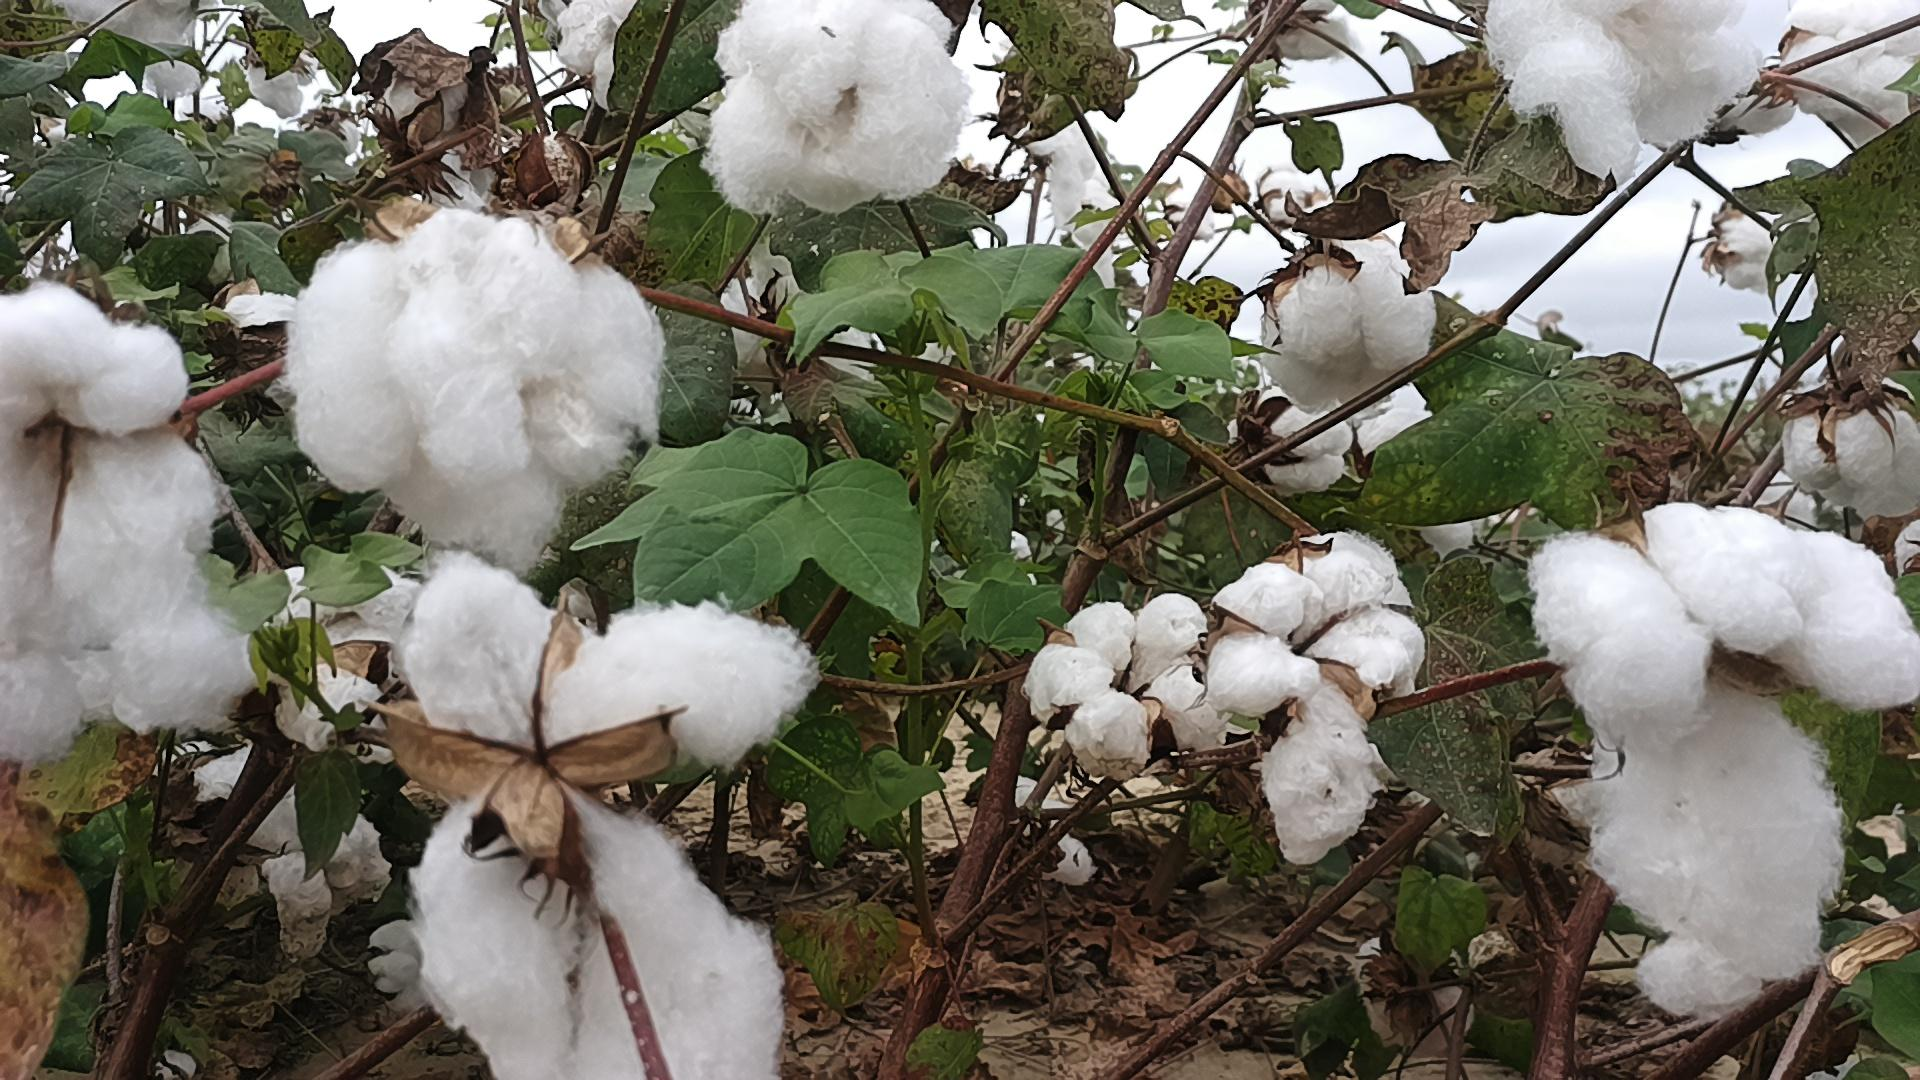cotton_ready: (414, 555, 820, 1080), (1528, 505, 1920, 1010), (284, 214, 663, 574), (0, 286, 245, 754), (1204, 550, 1408, 869), (702, 0, 968, 211), (1484, 0, 1763, 173), (1023, 596, 1233, 781), (258, 563, 427, 769), (1259, 240, 1437, 421), (198, 741, 361, 899), (717, 235, 881, 385), (1270, 533, 1425, 683), (382, 66, 524, 206), (1783, 378, 1920, 521), (1788, 0, 1920, 145), (1358, 413, 1476, 560), (51, 0, 206, 100), (1354, 935, 1470, 1056), (1246, 385, 1350, 497), (1009, 777, 1097, 889), (1708, 202, 1812, 293), (555, 0, 638, 113), (1026, 123, 1109, 228), (228, 290, 302, 407), (262, 853, 334, 961), (1271, 0, 1364, 58), (371, 919, 425, 1015), (247, 47, 315, 120)
